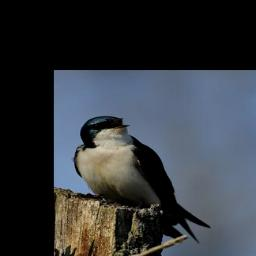Swallow: (74, 115, 212, 244)
